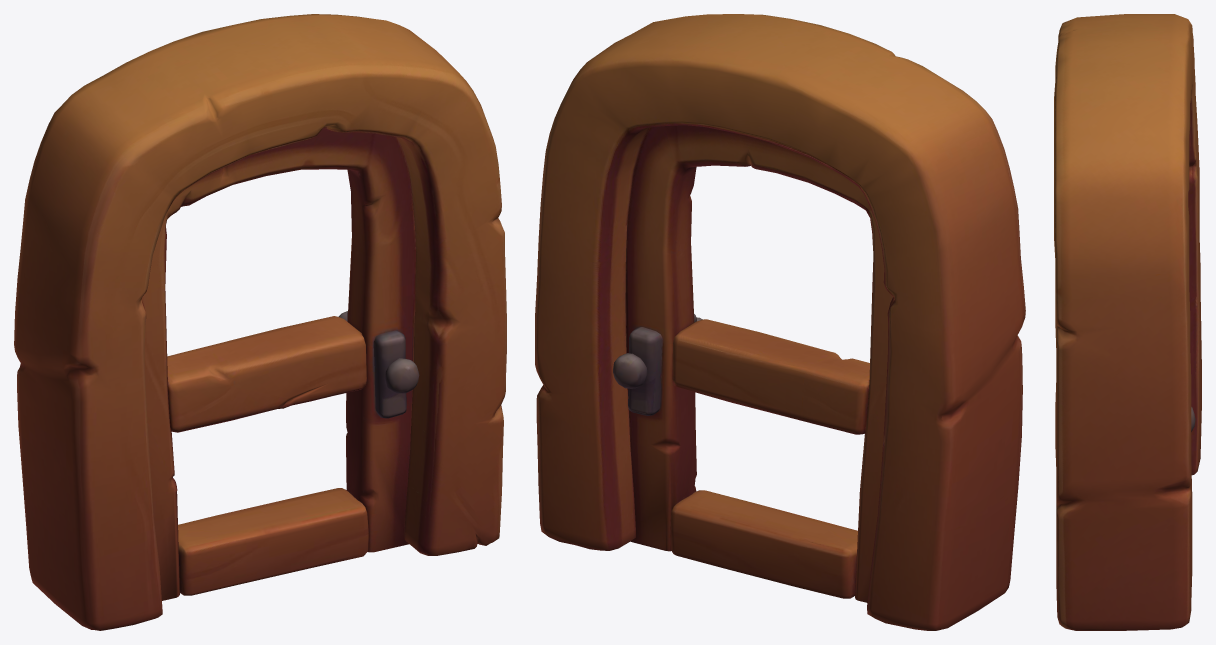
The model's file is selected.glb.
The picture shows the model from 3 angles, left to right: view 1: azimuth 30°, elevation 25°; view 2: azimuth 150°, elevation 25°; view 3: azimuth 270°, elevation 25°; orthographic projection. The views are drawn at different scales.
Parts seen in each view (by area): view 1: tripo_node_6b5498ae-7a6d-424d-b474-5ad475d981a2; view 2: tripo_node_6b5498ae-7a6d-424d-b474-5ad475d981a2; view 3: tripo_node_6b5498ae-7a6d-424d-b474-5ad475d981a2.
Boxes of the visible parts, bbox=[...] form: tripo_node_6b5498ae-7a6d-424d-b474-5ad475d981a2: bbox=[14, 14, 506, 630]; tripo_node_6b5498ae-7a6d-424d-b474-5ad475d981a2: bbox=[535, 14, 1025, 630]; tripo_node_6b5498ae-7a6d-424d-b474-5ad475d981a2: bbox=[1054, 14, 1201, 630].
Size of the model in its own units: 0.8613 by 0.998 by 0.2754.
1 material, 1 textured.
